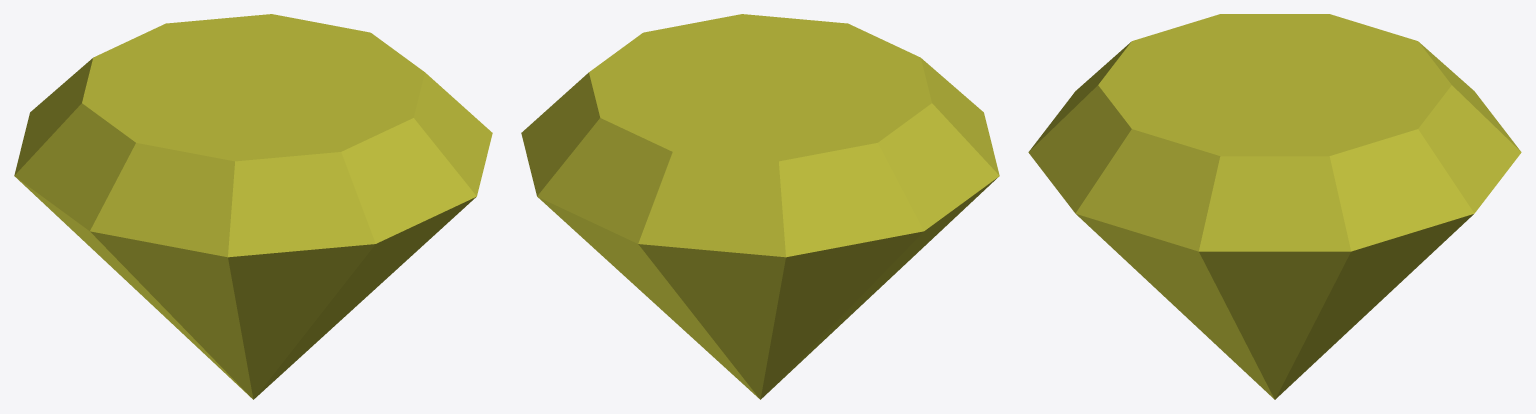
The model's file is Jewel_03.fbx.
The picture shows the model from 3 angles, left to right: view 1: azimuth 30°, elevation 25°; view 2: azimuth 150°, elevation 25°; view 3: azimuth 270°, elevation 25°; orthographic projection.
Visible parts, largest first — view 1: Jewel_03; view 2: Jewel_03; view 3: Jewel_03.
Part boxes in pixels (left/top/right/bottom): Jewel_03: left=14, top=14, right=492, bottom=399; Jewel_03: left=521, top=14, right=999, bottom=399; Jewel_03: left=1028, top=14, right=1521, bottom=399.
Size of the model in its own units: 624 by 462 by 656.
